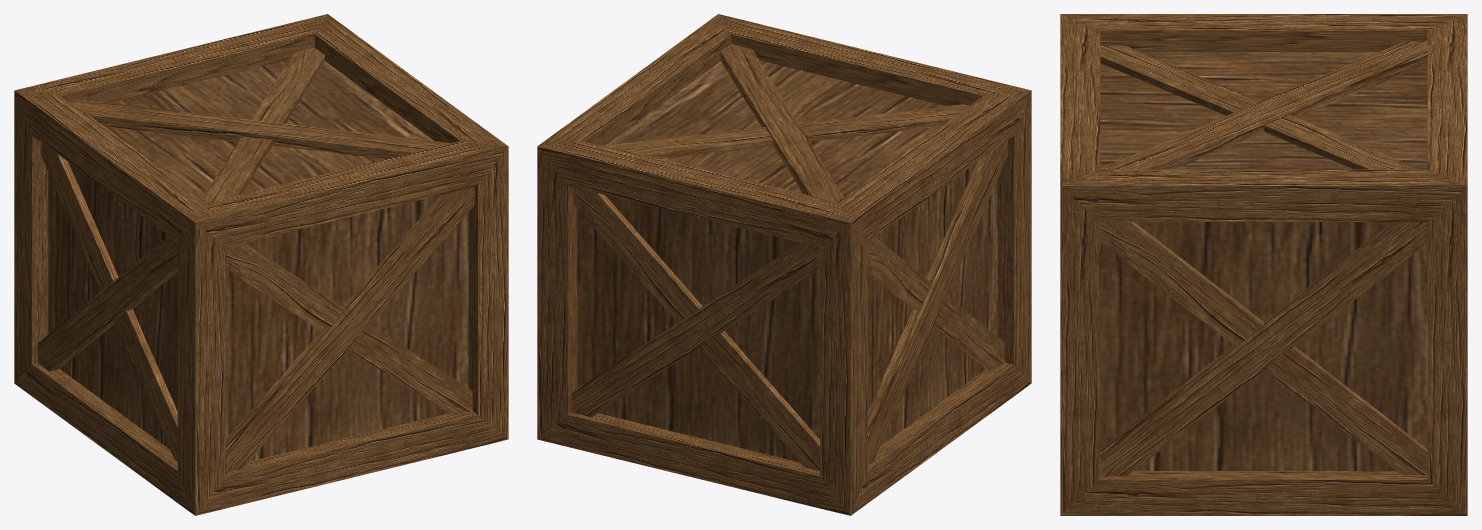
The model's file is Wood_Box_Empty_2.fbx.
3 renders of one model, left to right at view 1: azimuth 30°, elevation 25°; view 2: azimuth 150°, elevation 25°; view 3: azimuth 270°, elevation 25°, orthographic. The views are drawn at different scales.
Visible parts, largest first — view 1: Wood_Box_Empty_2; view 2: Wood_Box_Empty_2; view 3: Wood_Box_Empty_2.
Part boxes in pixels (x1,y1,x2,y2): Wood_Box_Empty_2: (14, 14, 508, 515); Wood_Box_Empty_2: (537, 14, 1031, 515); Wood_Box_Empty_2: (1060, 14, 1467, 515).
Bounding box in the file's own units: 57.17 × 51.11 × 57.17.
